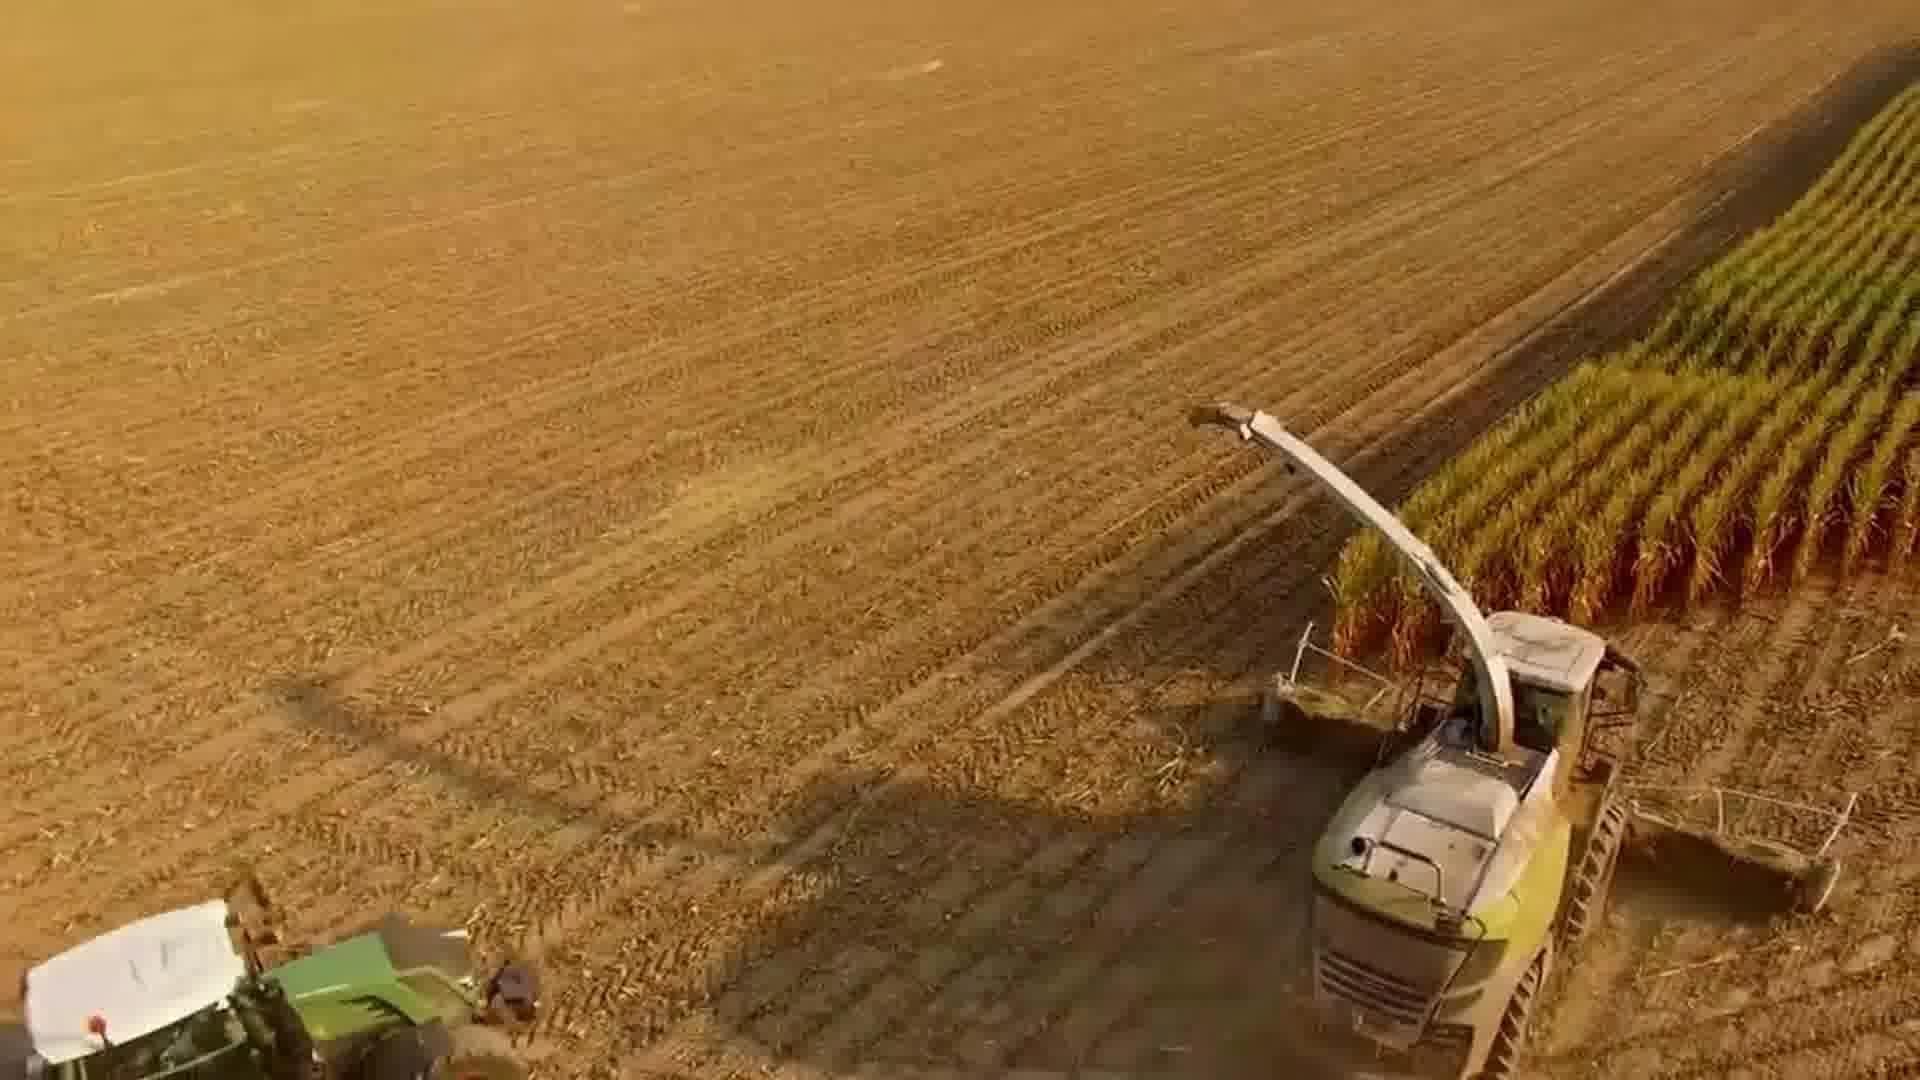combine harvester: (1182, 396, 1651, 1080)
tractor: (0, 864, 549, 1080)
